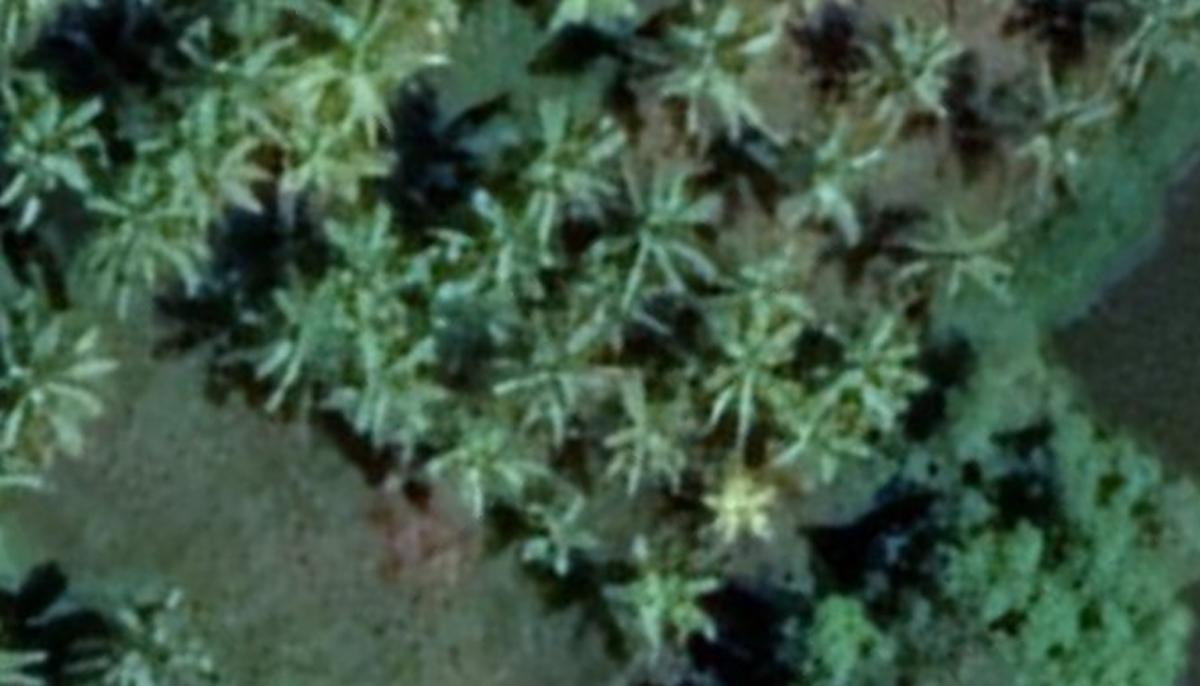coconut: (3, 311, 142, 465), (638, 10, 784, 147), (89, 171, 233, 306), (493, 101, 638, 228), (244, 274, 381, 404), (5, 81, 115, 242), (757, 114, 884, 249), (600, 172, 732, 301), (993, 74, 1116, 204), (698, 301, 818, 432), (804, 310, 928, 427), (604, 545, 729, 659), (497, 331, 615, 450), (895, 208, 1027, 311), (577, 377, 697, 490), (431, 415, 549, 527), (850, 16, 971, 122), (513, 495, 622, 598), (575, 272, 690, 363), (174, 121, 271, 224), (688, 472, 795, 555)
